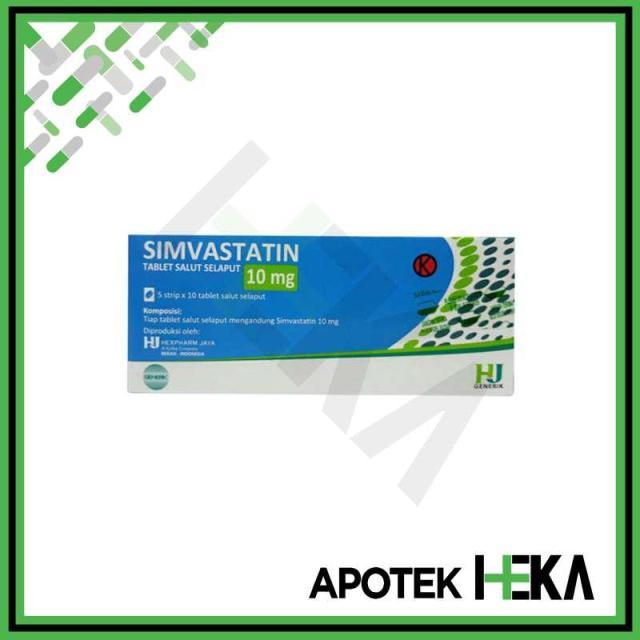drug-name: (139, 238, 301, 268)
